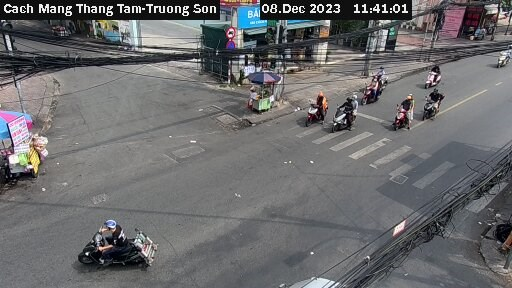motorbike: (74, 216, 160, 273), (330, 96, 361, 134), (302, 91, 329, 128), (392, 96, 416, 135), (421, 88, 447, 123), (358, 77, 385, 103), (420, 62, 446, 88), (371, 65, 399, 87), (490, 42, 512, 68)
